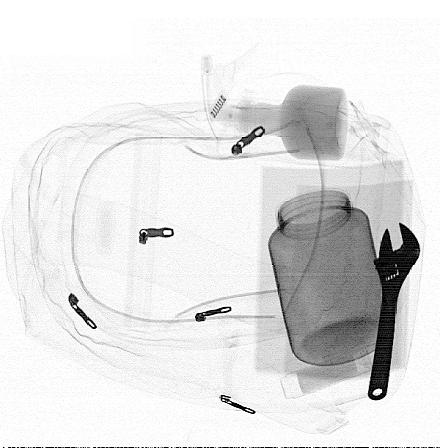Wrench: (367, 218, 421, 403)
